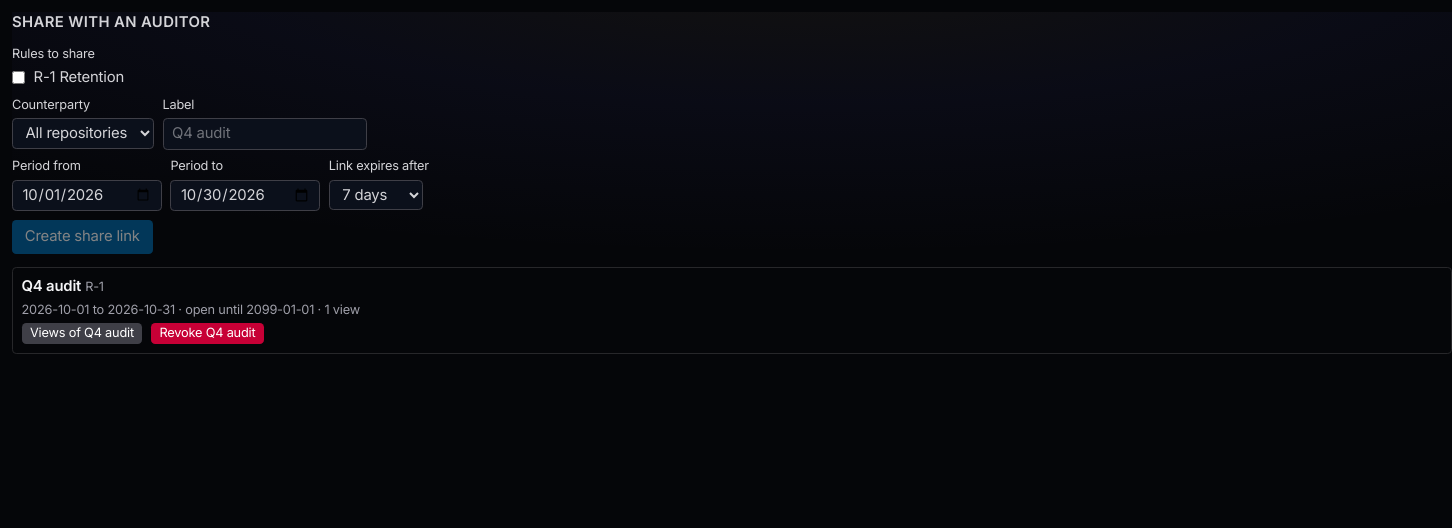
Test: SharesPanel › creates a link for the chosen rules, shows the views, and revokes
expect the text "2026-10-01 to 2026-10-31 · open until 2099-01-01 · 1 view" is shown: met, box top-left (22, 302), bottom-right (360, 317)
expect the button "Create share link" is disabled: met, box top-left (12, 220), bottom-right (152, 254)
Click the checkbox labelled "R-1 Retention" at (18, 78), box top-left (12, 71), bottom-right (25, 84)
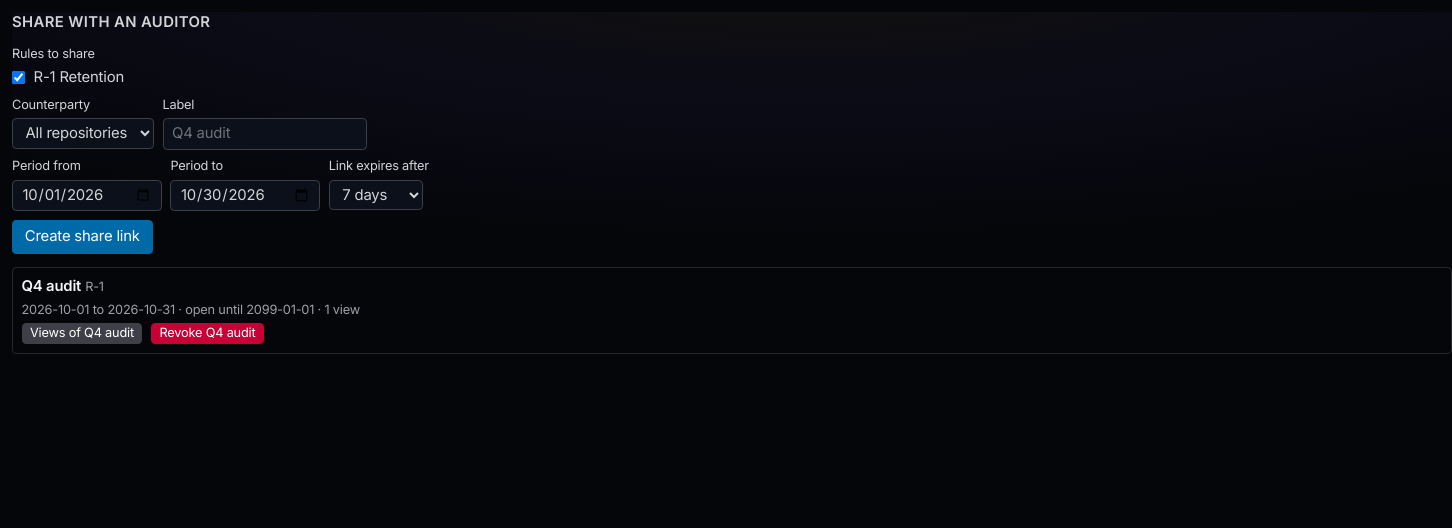
Select "Klinikum Spree" in the dropdown labelled "Counterparty" at (83, 133), box top-left (12, 118), bottom-right (154, 149)
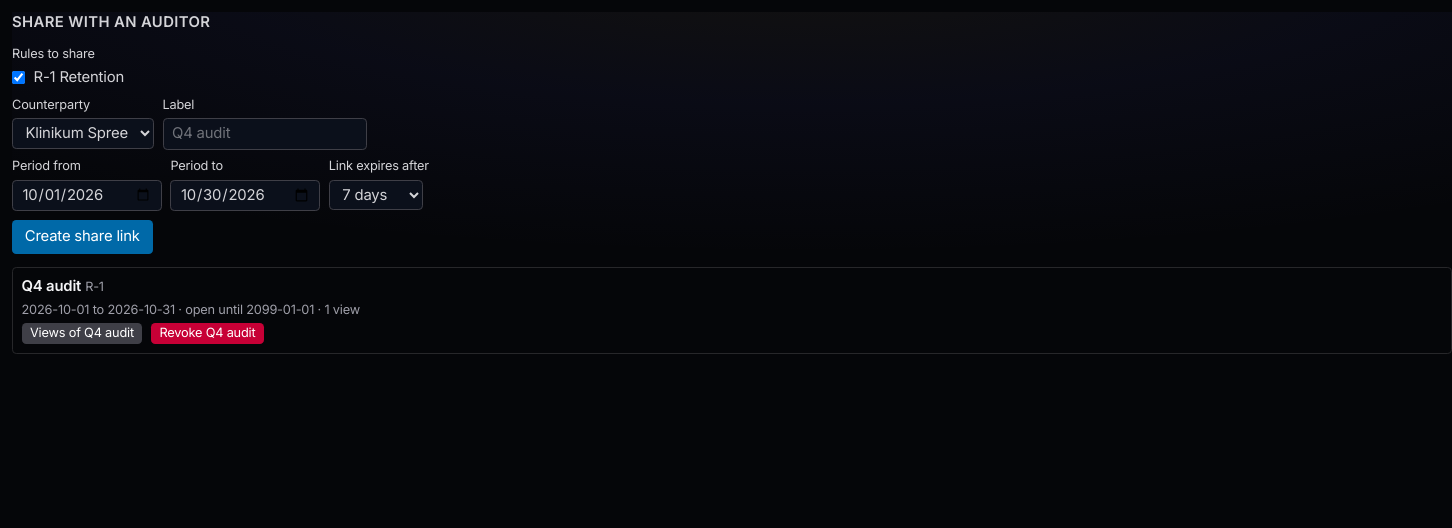
Click the button "Create share link" at (82, 237), box top-left (12, 220), bottom-right (152, 254)
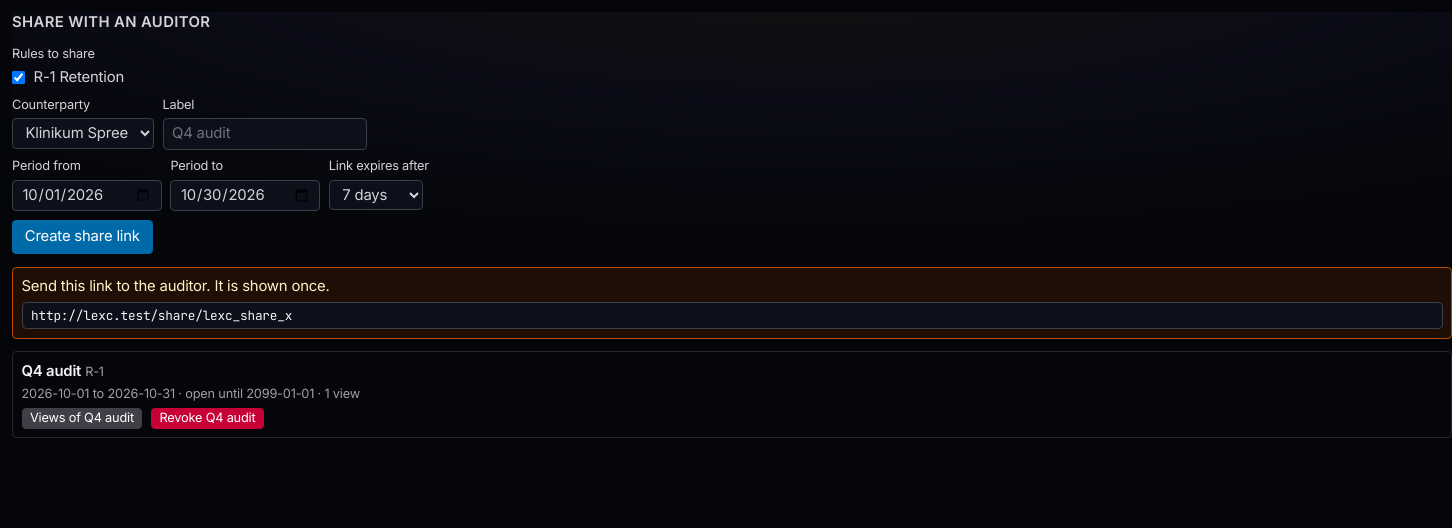
expect the field named "Share link" holds "http://lexc.test/share/lexc_share_x": met, box top-left (22, 302), bottom-right (1442, 329)
Click the button "Views of Q4 audit" at (82, 418), box top-left (22, 408), bottom-right (142, 429)
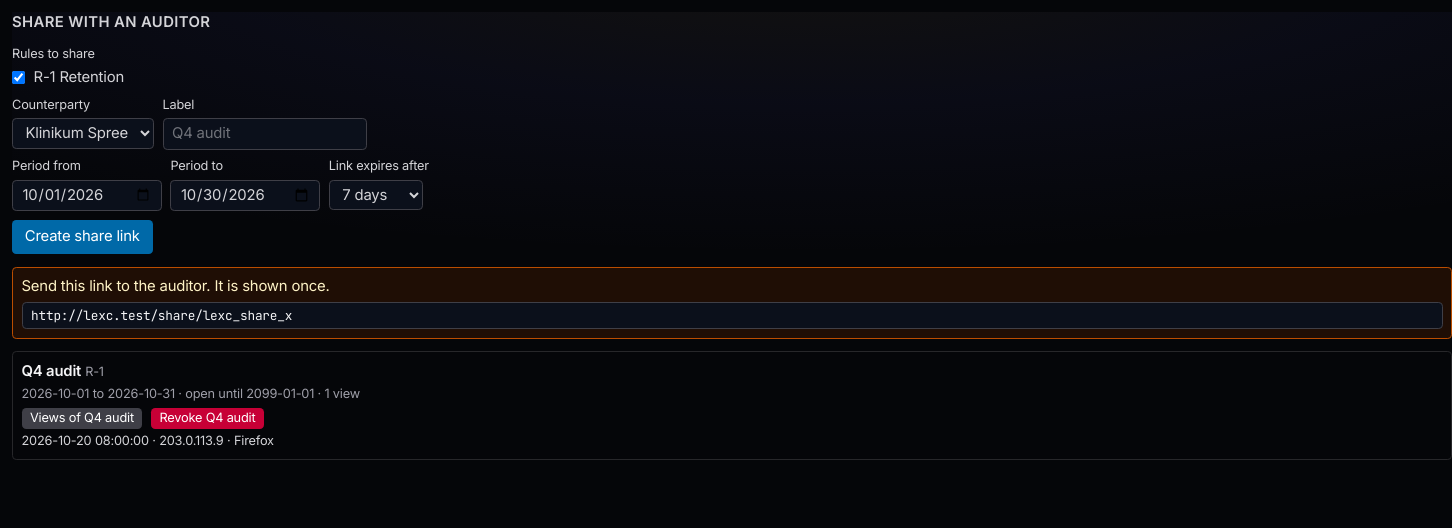
expect the list named "Views of Q4 audit" shows "203.0.113.9 · Firefox": met, box top-left (22, 433), bottom-right (274, 448)
Click the button "Revoke Q4 audit" at (208, 418), box top-left (151, 408), bottom-right (264, 429)
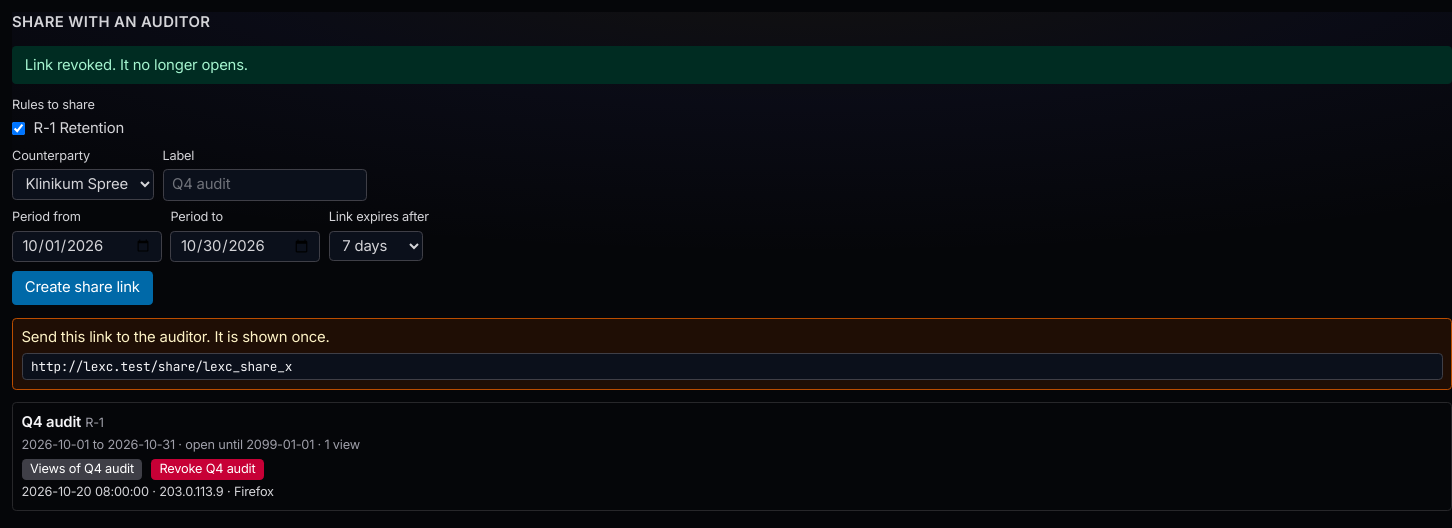
expect the message shows "Link revoked": met, box top-left (25, 56), bottom-right (248, 74)
